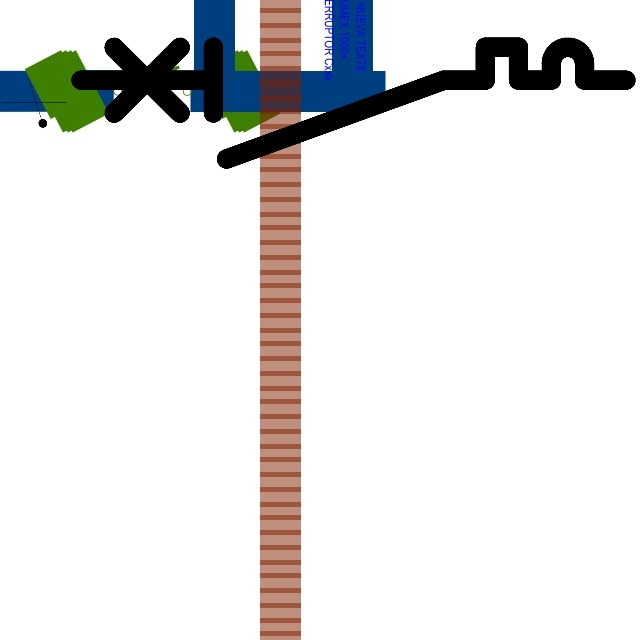interruptor_termomagnetico: (66, 33, 639, 173)
